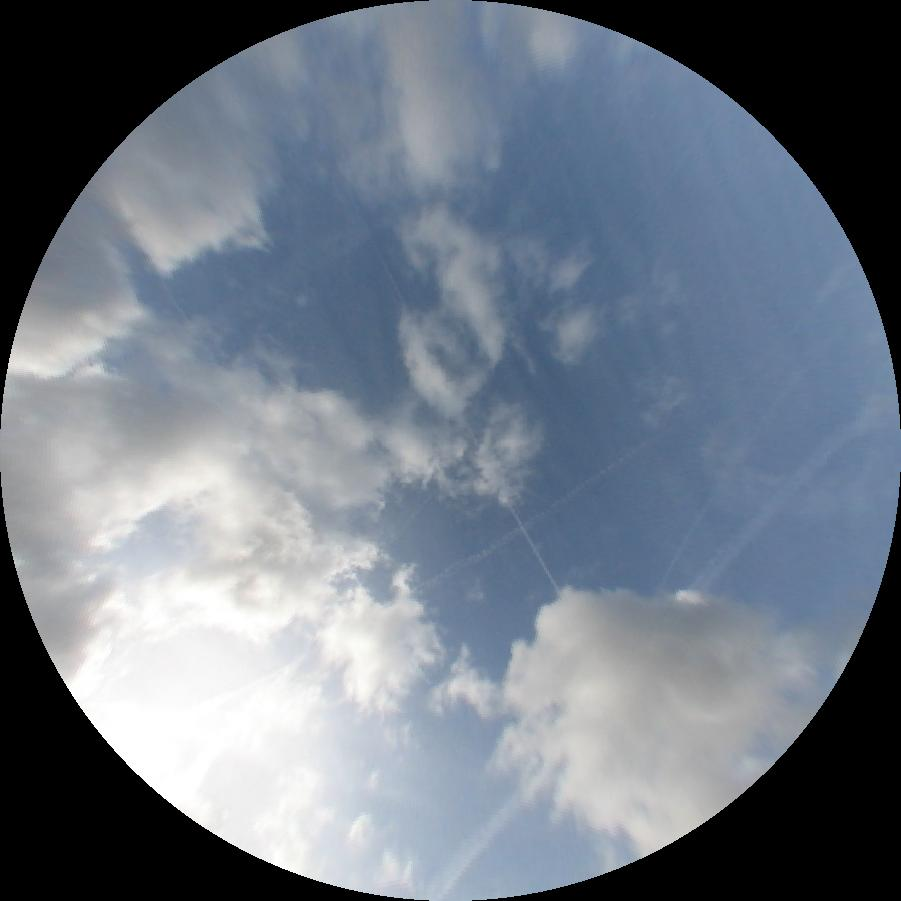contrail old: (160, 279, 436, 687), (369, 233, 561, 597)
contrail veryold: (423, 413, 874, 900), (206, 442, 644, 707), (110, 205, 389, 387)
contrail young: (658, 365, 807, 595)
sun: (85, 682, 227, 815)
